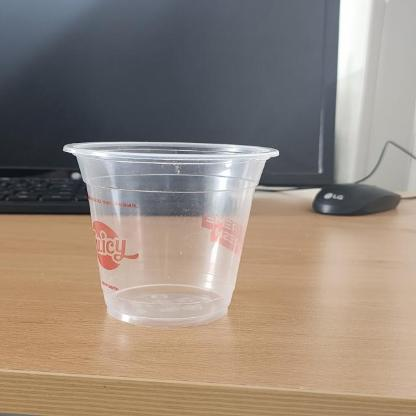Plastic Cup: (62, 137, 282, 327)
